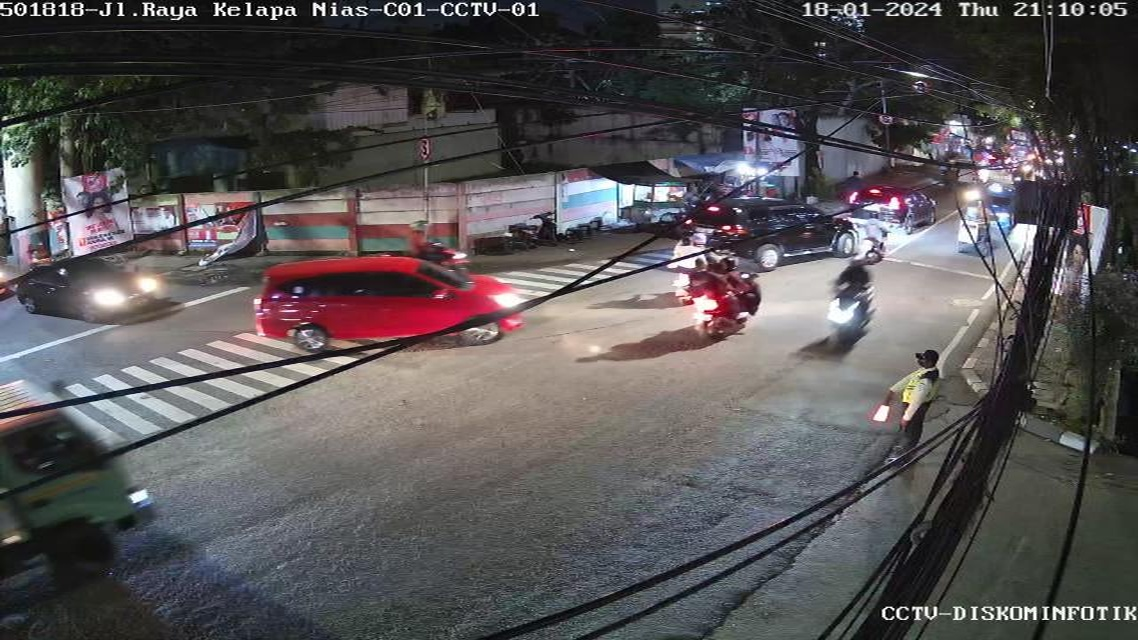Gerobak: (628, 182, 688, 228)
